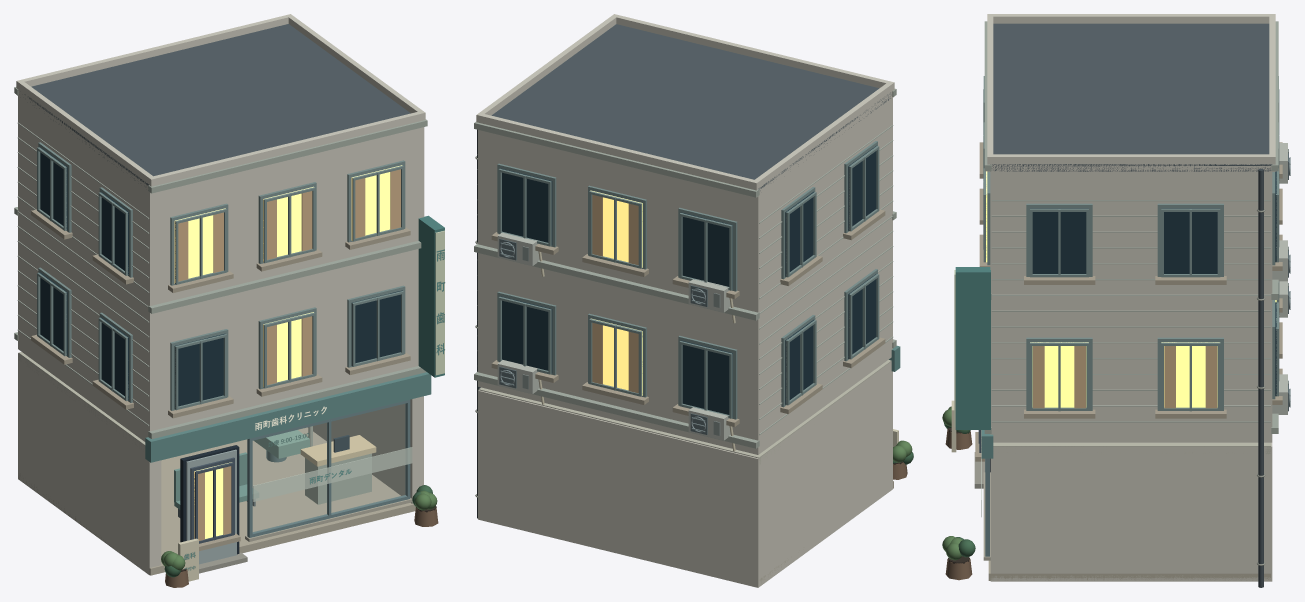
File: clinic.glb
3 renders of one model, left to right at view 1: azimuth 30°, elevation 25°; view 2: azimuth 150°, elevation 25°; view 3: azimuth 270°, elevation 25°, orthographic. The views are drawn at different scales.
Visible parts, largest first — view 1: 雨町牙科, Group_22, Group_66, Group_184, Group_195, Group_57, Group_77, Group_173, Group_9, Group_6, Group_115, Group_124 (+2 smaller); view 2: 雨町牙科, Group_95, Group_215, Group_86, Group_226, Group_206, Group_106, Group_124, Group_244, Group_115, Group_235, Group_271 (+3 smaller); view 3: 雨町牙科, Group_133, Group_144, Group_253, Group_262, Group_195, Group_106, Group_226, Group_22, Group_280, Group_164.
Part boxes in pixels (<box>): 雨町牙科: <box>14,14,445,587</box>; Group_22: <box>245,399,412,541</box>; Group_66: <box>256,307,322,396</box>; Group_184: <box>256,182,322,271</box>; Group_195: <box>345,160,410,249</box>; Group_57: <box>168,329,233,418</box>; Group_77: <box>345,285,410,374</box>; Group_173: <box>168,203,233,292</box>; Group_9: <box>190,457,240,551</box>; Group_6: <box>180,445,247,573</box>; Group_115: <box>92,312,133,409</box>; Group_124: <box>31,267,72,364</box>; 雨町牙科: <box>474,14,913,587</box>; Group_95: <box>582,313,648,404</box>; Group_215: <box>582,185,648,276</box>; Group_86: <box>672,335,739,426</box>; Group_226: <box>491,163,558,254</box>; Group_206: <box>672,207,739,298</box>; Group_106: <box>491,291,558,382</box>; Group_124: <box>780,315,822,413</box>; Group_244: <box>780,187,822,285</box>; Group_115: <box>843,269,885,368</box>; Group_235: <box>843,141,885,240</box>; Group_271: <box>688,279,735,323</box>; 雨町牙科: <box>942,14,1278,587</box>; Group_133: <box>1024,337,1095,418</box>; Group_144: <box>1155,337,1226,418</box>; Group_253: <box>1024,203,1095,284</box>; Group_262: <box>1155,203,1226,284</box>; Group_195: <box>979,168,990,266</box>; Group_106: <box>1272,300,1282,404</box>; Group_226: <box>1272,168,1282,270</box>; Group_22: <box>983,458,990,560</box>; Group_280: <box>1272,240,1290,281</box>; Group_164: <box>1272,374,1290,414</box>.
Size of the model in its own units: 7 by 9.2 by 6.79.
64 materials, 11 textured.
